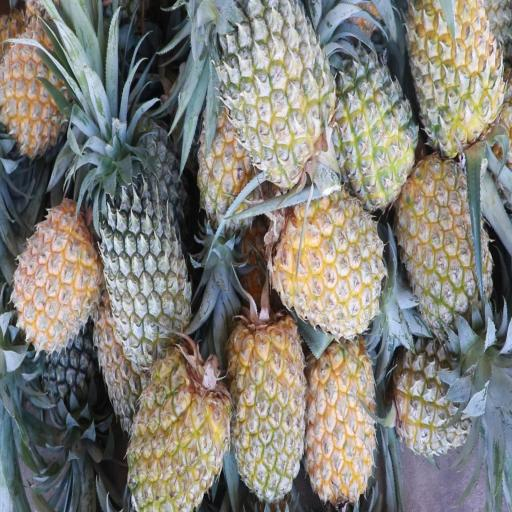------------------------------: (210, 0, 324, 176), (409, 0, 503, 151), (400, 162, 490, 318), (396, 338, 477, 452)
Pineapple - v8 v1: (125, 343, 234, 512), (278, 182, 384, 330), (230, 310, 304, 496), (14, 206, 102, 349), (333, 52, 414, 204), (307, 343, 375, 499), (196, 81, 259, 223), (0, 32, 73, 152)
